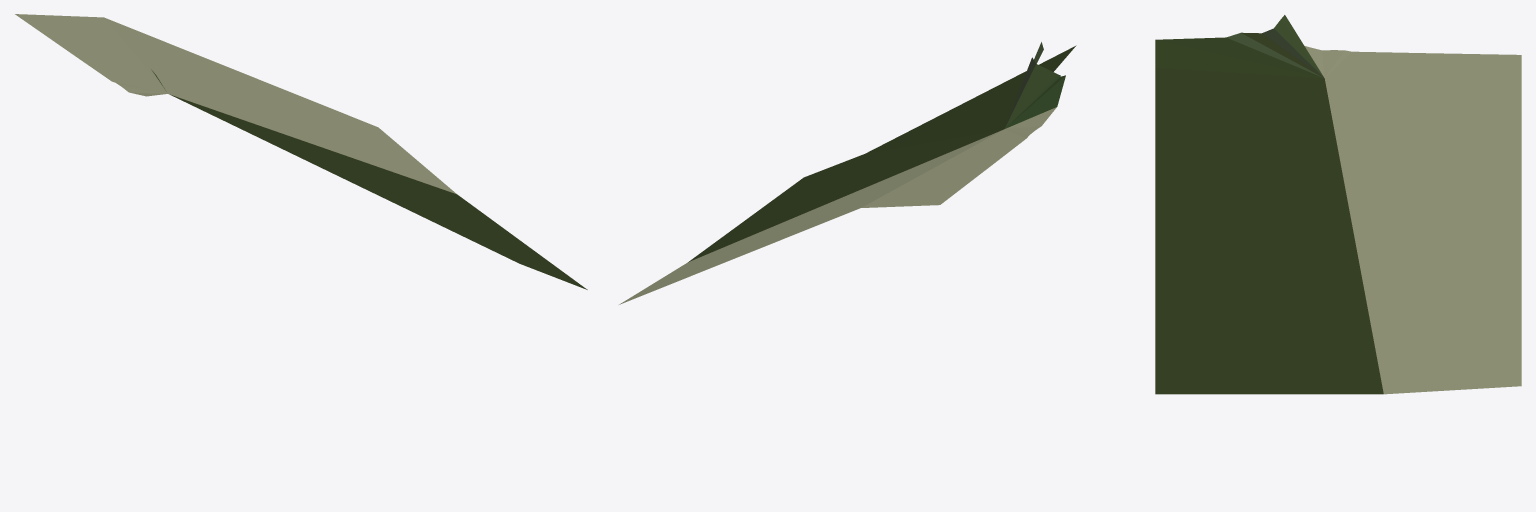
3 views of the same model, side by side, from view 1: azimuth 30°, elevation 25°; view 2: azimuth 150°, elevation 25°; view 3: azimuth 270°, elevation 25° (orthographic). The views are drawn at different scales.
Bounding box in the file's own units: 1.97 × 1.95 × 1.97.
1 material, 1 textured.
